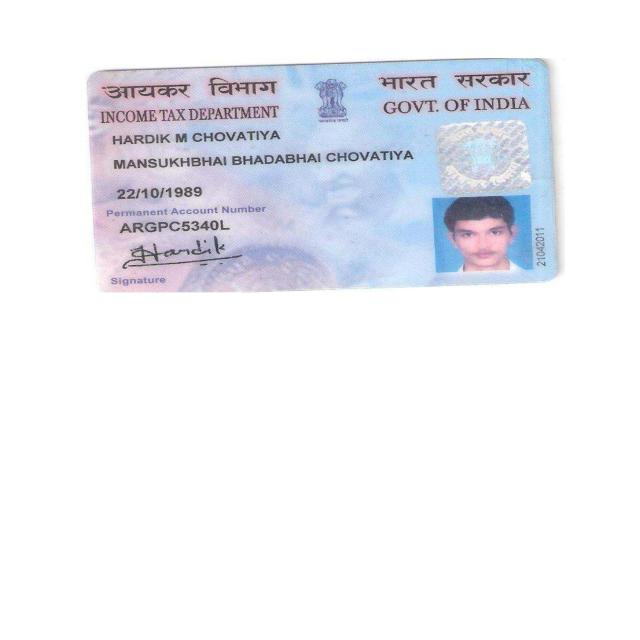pan_card: (82, 58, 558, 293)
